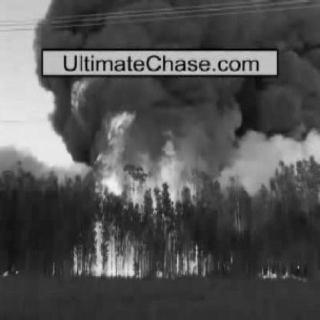Fire: (57, 81, 311, 287)
Smoke: (38, 0, 318, 110)
